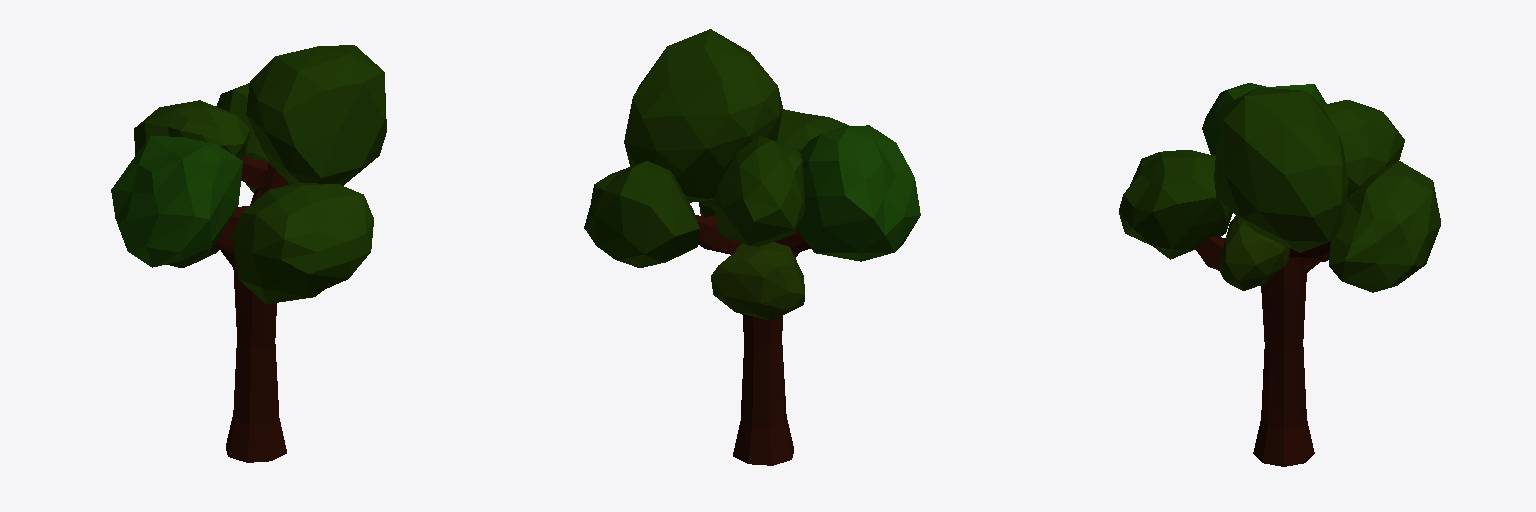
Rendered from tree2.obj.
3 views of the same model, side by side, from view 1: azimuth 30°, elevation 25°; view 2: azimuth 150°, elevation 25°; view 3: azimuth 270°, elevation 25° (orthographic).
Parts seen in each view (by area): view 1: Leaves_Icosphere.001, Cylinder_Cylinder.002; view 2: Leaves_Icosphere.001, Cylinder_Cylinder.002; view 3: Leaves_Icosphere.001, Cylinder_Cylinder.002.
Boxes of the visible parts, <box> form: Leaves_Icosphere.001: <box>111,45,386,303</box>; Cylinder_Cylinder.002: <box>212,156,288,462</box>; Leaves_Icosphere.001: <box>584,29,920,320</box>; Cylinder_Cylinder.002: <box>695,215,810,465</box>; Leaves_Icosphere.001: <box>1119,83,1440,292</box>; Cylinder_Cylinder.002: <box>1196,236,1330,466</box>.
Bounding box in the file's own units: 5.11 × 7.2 × 5.37.